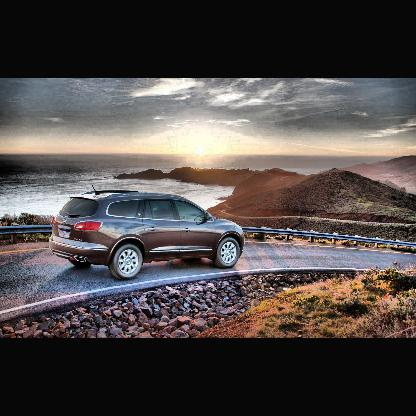Buick Enclave SUV 2012: (48, 183, 246, 281)
